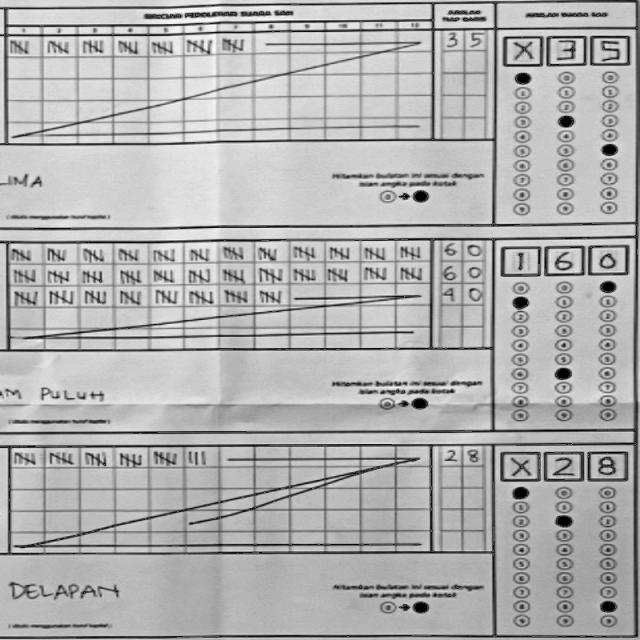Suara: (494, 234, 628, 281), (494, 444, 628, 486), (500, 31, 630, 70)
